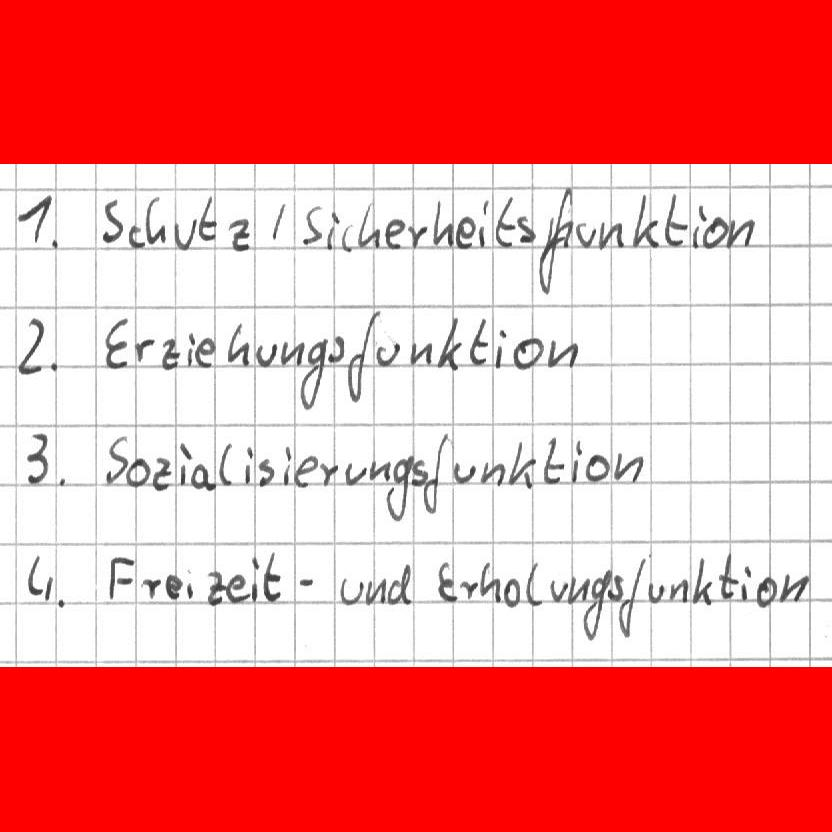Char: (344, 309, 380, 402), (297, 337, 329, 412), (580, 568, 611, 640), (618, 556, 645, 638), (423, 432, 449, 516), (13, 315, 47, 377), (385, 453, 413, 522), (15, 192, 52, 244), (629, 191, 660, 249), (435, 315, 465, 371), (23, 431, 51, 486), (25, 555, 55, 605), (105, 555, 136, 603), (663, 193, 690, 247), (143, 194, 169, 249), (507, 440, 536, 489), (104, 315, 130, 369), (102, 434, 129, 486), (99, 196, 126, 247), (384, 562, 414, 607), (493, 195, 517, 248), (510, 336, 545, 372), (357, 201, 382, 251), (261, 548, 283, 603), (225, 321, 251, 367), (545, 337, 580, 371), (431, 199, 455, 247), (717, 552, 740, 601), (469, 316, 491, 366), (691, 556, 713, 606), (779, 572, 812, 605), (479, 560, 503, 605), (725, 216, 758, 248), (542, 436, 564, 484), (612, 451, 644, 484), (200, 568, 226, 607), (196, 194, 218, 239), (300, 203, 323, 246), (524, 560, 545, 607), (436, 558, 457, 604), (217, 442, 238, 487), (173, 215, 198, 252), (598, 219, 626, 252), (701, 215, 728, 249), (226, 216, 251, 252), (123, 457, 150, 489), (292, 455, 318, 488), (337, 576, 365, 606), (689, 203, 707, 249), (150, 456, 173, 492), (192, 336, 216, 370), (584, 453, 611, 483), (383, 217, 407, 250), (479, 459, 507, 487), (323, 210, 341, 253), (455, 214, 477, 249), (363, 574, 386, 607), (224, 571, 247, 603), (756, 574, 777, 609), (269, 201, 287, 241), (160, 336, 180, 372), (565, 575, 589, 605), (373, 341, 399, 368), (451, 459, 477, 486), (404, 222, 428, 251), (191, 463, 215, 492), (514, 213, 536, 244), (279, 340, 304, 367), (409, 339, 434, 366), (342, 460, 367, 487), (477, 198, 490, 249), (132, 335, 154, 365), (163, 573, 185, 602), (178, 440, 191, 489), (502, 577, 521, 609), (326, 334, 346, 364), (250, 554, 262, 604), (668, 576, 690, 603), (256, 458, 275, 489), (493, 328, 507, 370), (571, 438, 583, 487), (140, 576, 163, 601), (256, 341, 278, 367), (576, 220, 596, 248), (319, 461, 340, 487), (126, 222, 145, 250), (368, 458, 390, 481), (339, 221, 354, 254), (281, 443, 292, 487), (458, 578, 478, 602), (411, 459, 428, 487), (739, 565, 752, 601), (549, 577, 567, 602), (608, 575, 624, 603), (647, 580, 666, 603), (184, 331, 195, 369), (244, 444, 254, 485), (298, 574, 318, 591), (54, 472, 71, 491), (186, 567, 195, 600), (46, 359, 62, 373), (46, 235, 59, 250), (56, 596, 66, 611)
